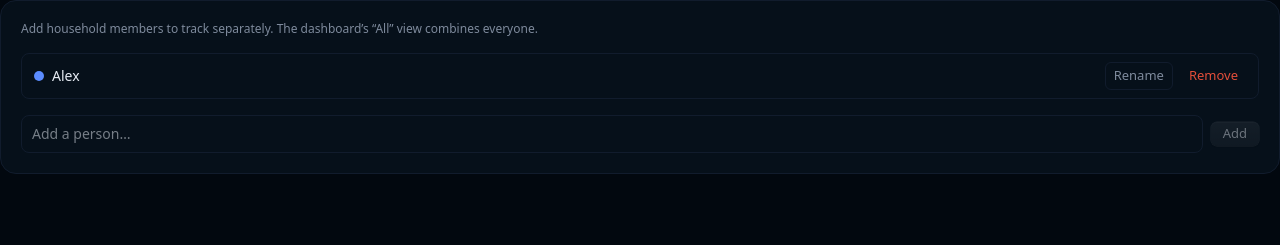
Test: ProfilesPane › adds a profile
The image size is (1280, 245).
Expected: the text "Alex" is shown, [34,66,80,86]
Type "Jamie" into the field named "New profile name".
click(612, 134); type("Jamie")  # box [21,115,1203,153]
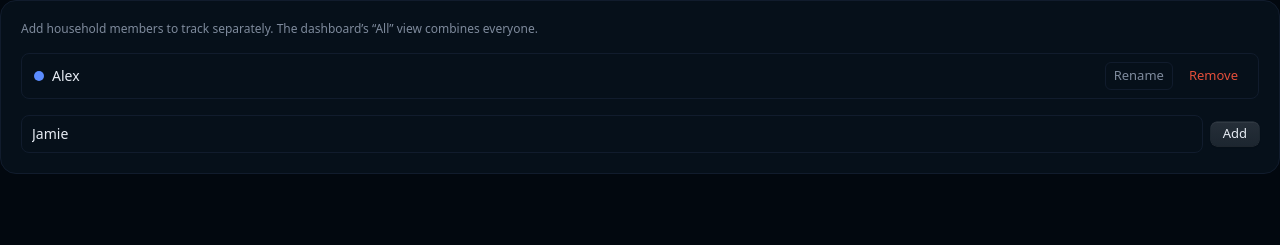
Click the button "Add".
click(1235, 134)  # box [1211,122,1259,146]
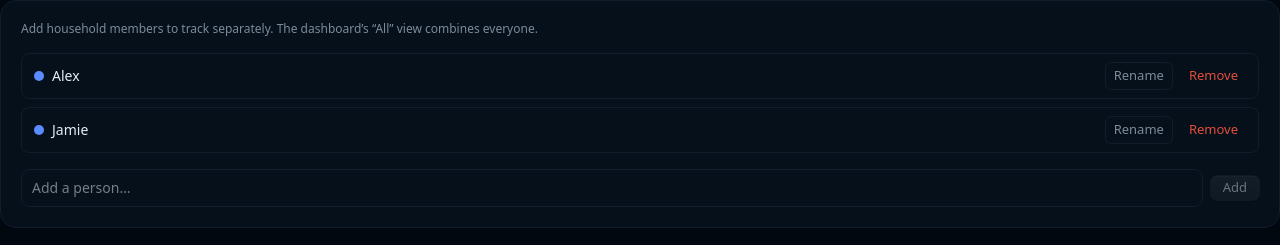
Now the text "Jamie" is shown, box [34,120,88,140]
